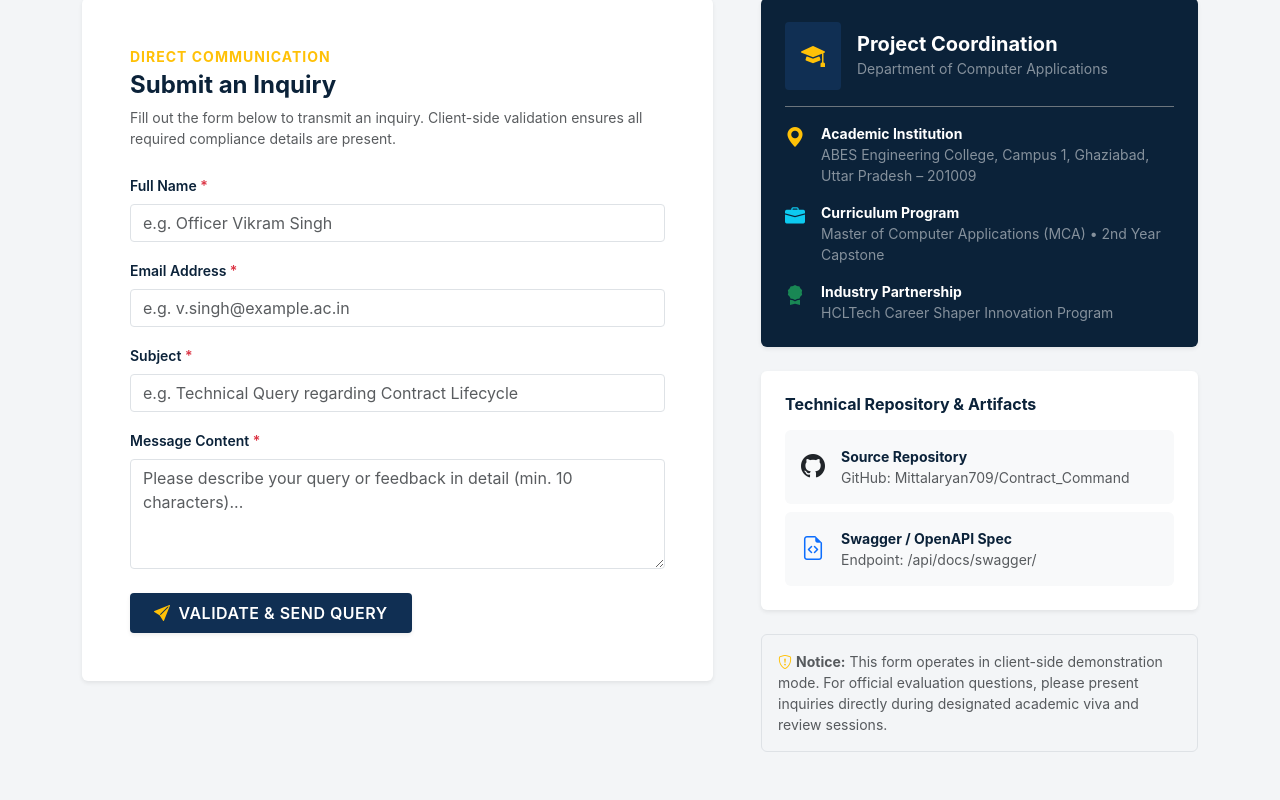
Phase 2 — Public Website and Branding Tests › Contact Page Form Validation › displays validation errors when submitting an empty form
This screenshot has width=1280, height=800.
(page scrolled)
Click the button "Validate & Send Query" at (271, 613), box [130,593,412,633]
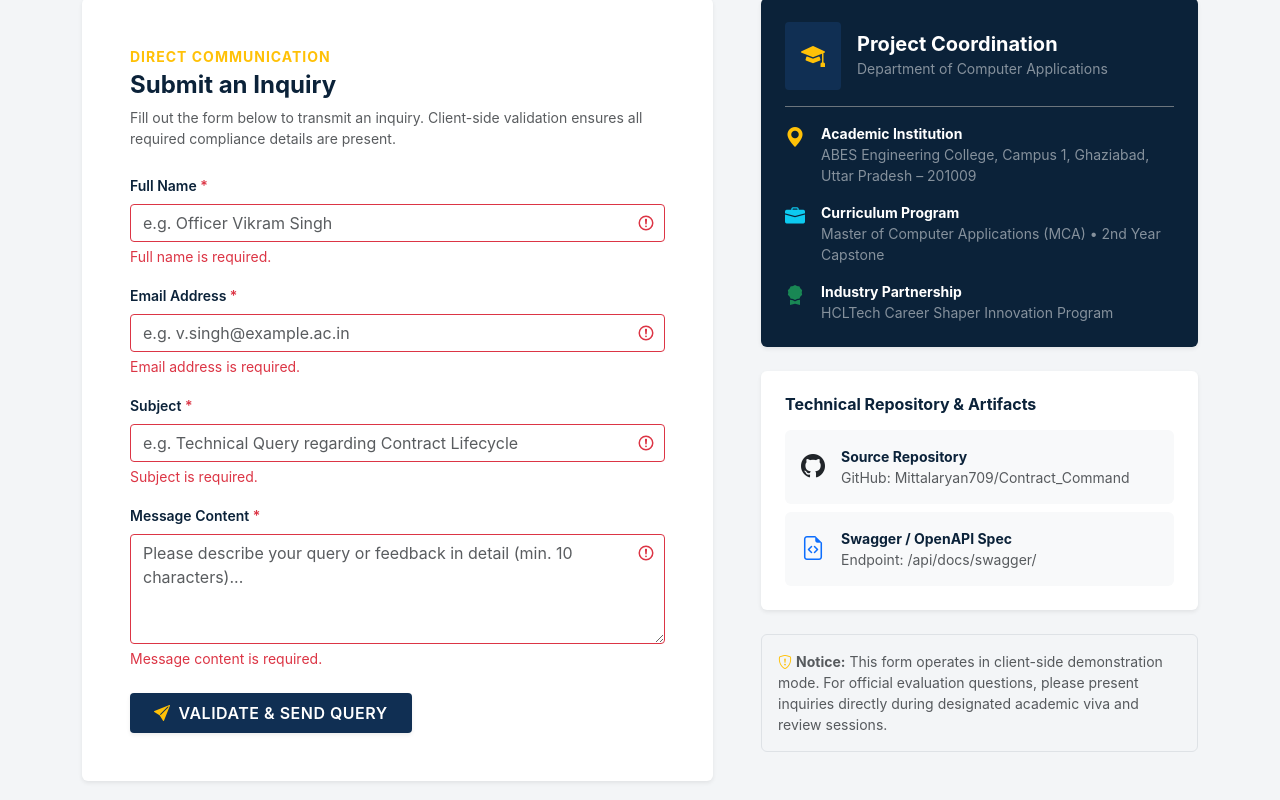
Expected: the text "Full name is required." is shown, [130,248,271,265]
Expected: the text "Email address is required." is shown, [130,358,300,375]
Expected: the text "Subject is required." is shown, [130,468,258,485]
